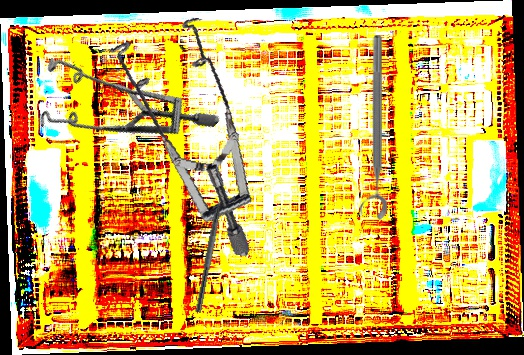Chopper: (195, 186, 232, 315)
Fixation Ring: (358, 35, 387, 220)
Speculum: (76, 2, 291, 258), (12, 5, 222, 213)
